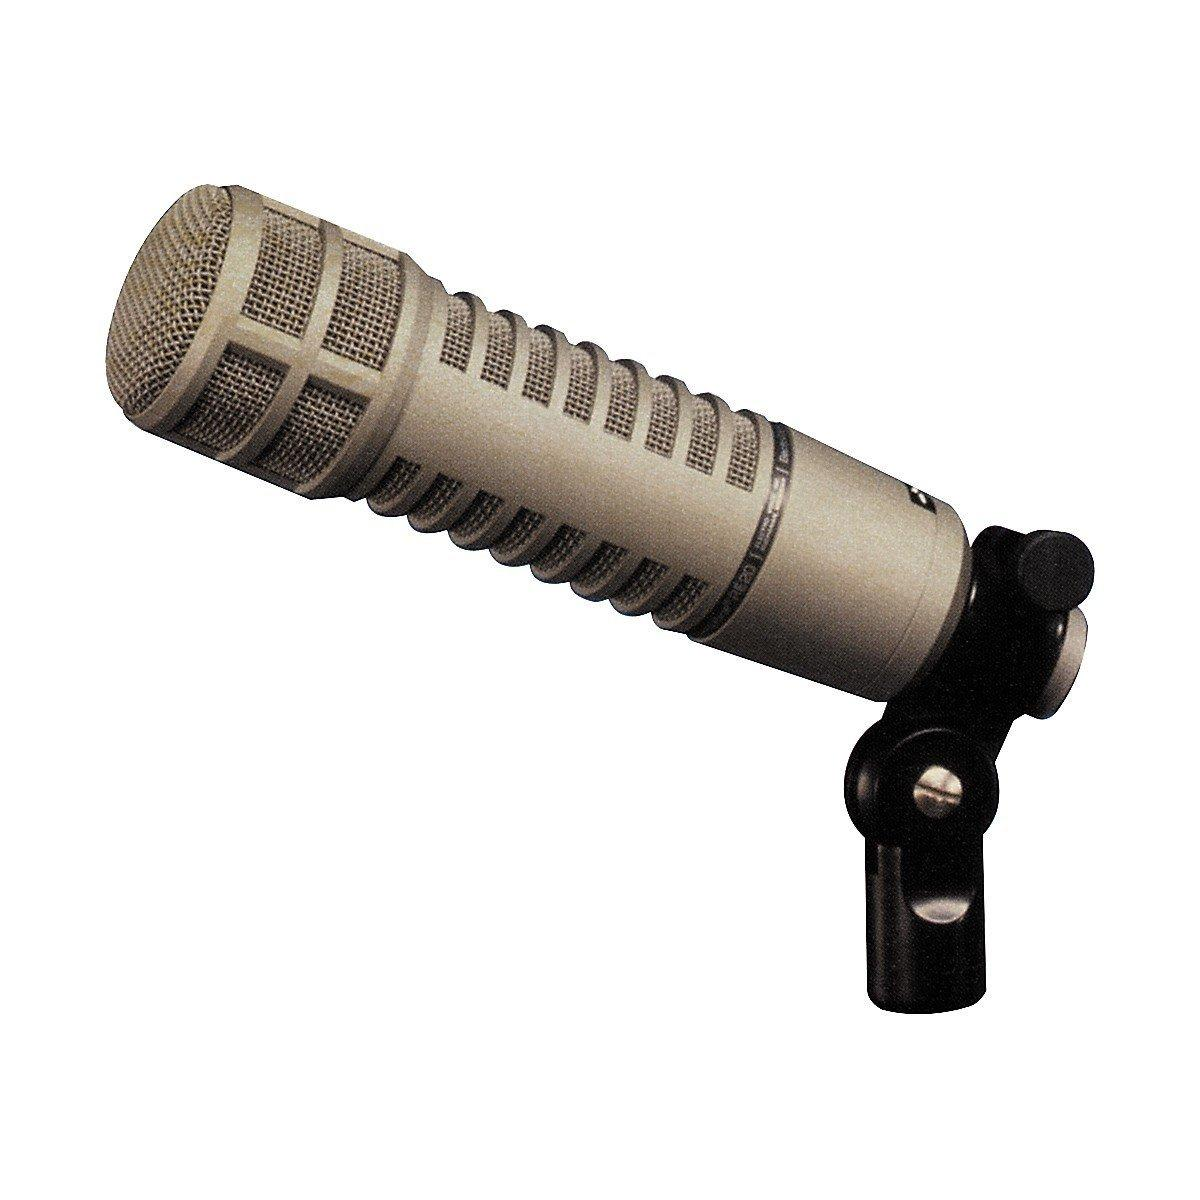Microphone: (55, 138, 1112, 1029)
